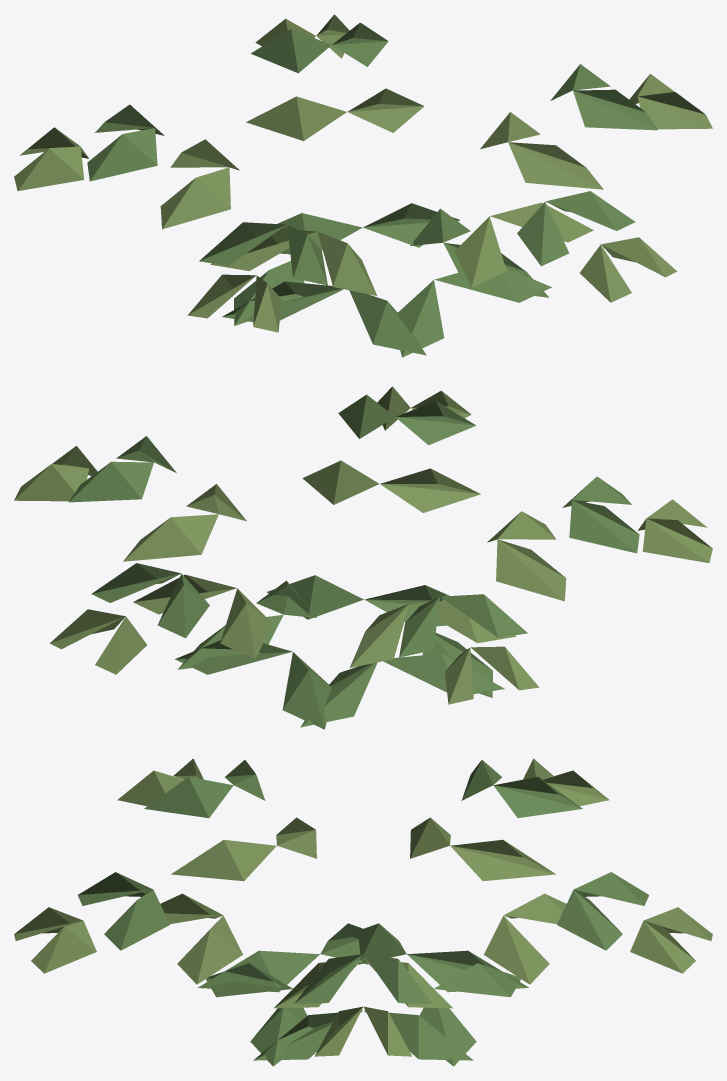
The model's file is plant-fern.glb.
3 renders of one model, top to bottom at view 1: azimuth 30°, elevation 25°; view 2: azimuth 150°, elevation 25°; view 3: azimuth 270°, elevation 25°, orthographic.
Parts seen in each view (by area): view 1: plant-fern; view 2: plant-fern; view 3: plant-fern.
Part boxes in pixels (x1,y1,x2,y2): plant-fern: (14,14,712,357); plant-fern: (14,386,712,729); plant-fern: (14,758,712,1066).
Size of the model in its own units: 1.64 by 0.4101 by 1.71.
